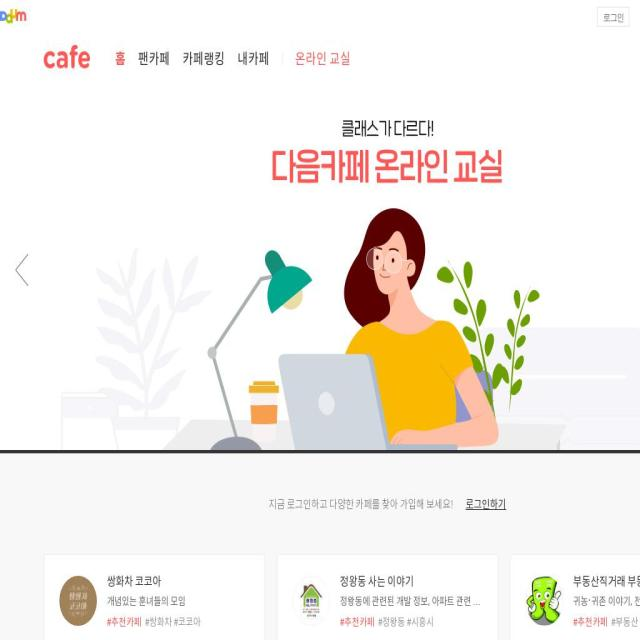button: (44, 554, 265, 640), (277, 554, 498, 640), (510, 554, 640, 640), (0, 241, 44, 299), (276, 47, 356, 69), (44, 45, 90, 75), (176, 47, 232, 69), (231, 47, 276, 69), (132, 47, 176, 69), (466, 495, 506, 513), (597, 6, 629, 26), (109, 47, 132, 69), (0, 9, 26, 23)
heading: (0, 87, 640, 453), (44, 495, 640, 640), (44, 45, 90, 68)
image: (0, 87, 640, 453), (59, 576, 97, 626), (292, 576, 330, 626), (526, 576, 563, 626)
link: (107, 572, 249, 590), (340, 572, 482, 590), (107, 592, 249, 608), (340, 592, 482, 608), (573, 572, 640, 590), (573, 592, 640, 608), (107, 613, 143, 629), (340, 613, 376, 629), (573, 613, 609, 629)
text: (269, 495, 453, 513), (406, 613, 436, 629), (145, 613, 174, 629), (378, 613, 407, 629), (611, 613, 640, 629), (174, 613, 202, 629), (16, 253, 28, 287)
